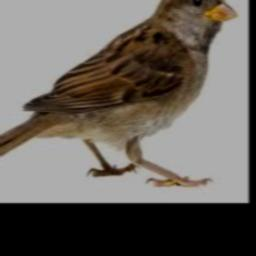Sparrow: (0, 0, 237, 187)
